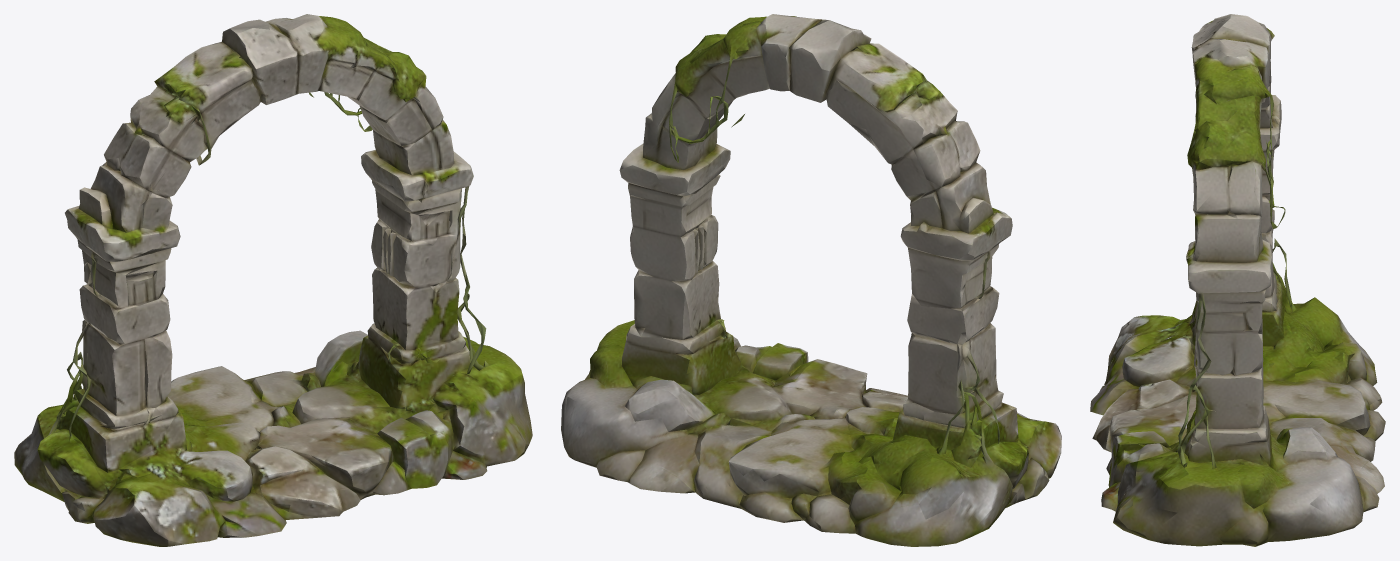
Rendered from ruins.glb.
3 renders of one model, left to right at view 1: azimuth 30°, elevation 25°; view 2: azimuth 150°, elevation 25°; view 3: azimuth 270°, elevation 25°, orthographic. The views are drawn at different scales.
Parts seen in each view (by area): view 1: Mesh; view 2: Mesh; view 3: Mesh.
Boxes of the visible parts, box(x1,y1,x2,y2) form: Mesh: box(14, 14, 532, 546); Mesh: box(561, 14, 1061, 546); Mesh: box(1090, 14, 1385, 546).
Bounding box in the file's own units: 1.88 × 1.75 × 1.13.
Materials: 1 (1 with a texture image).
